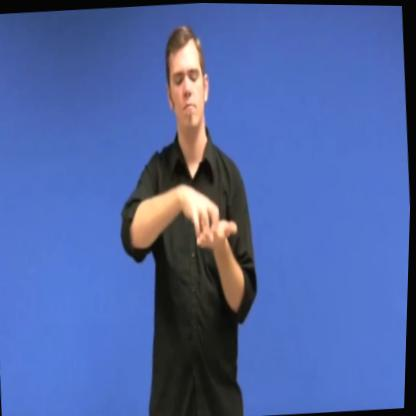Expensive: (158, 155, 249, 275)
